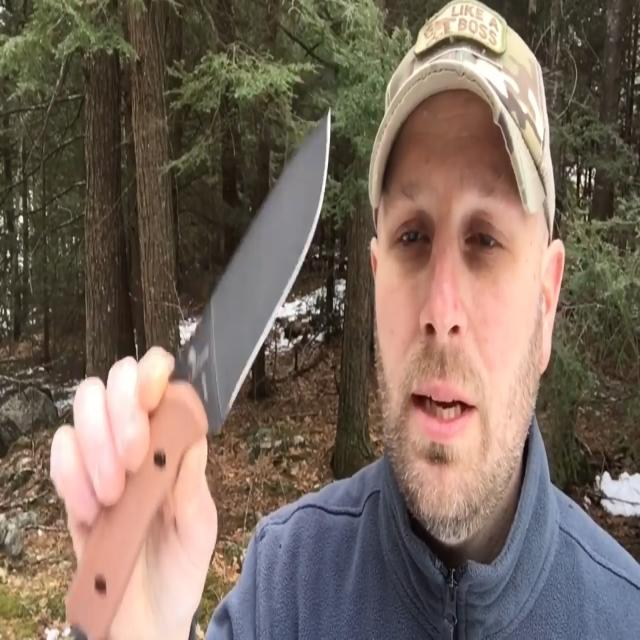knife: (67, 108, 342, 640)
